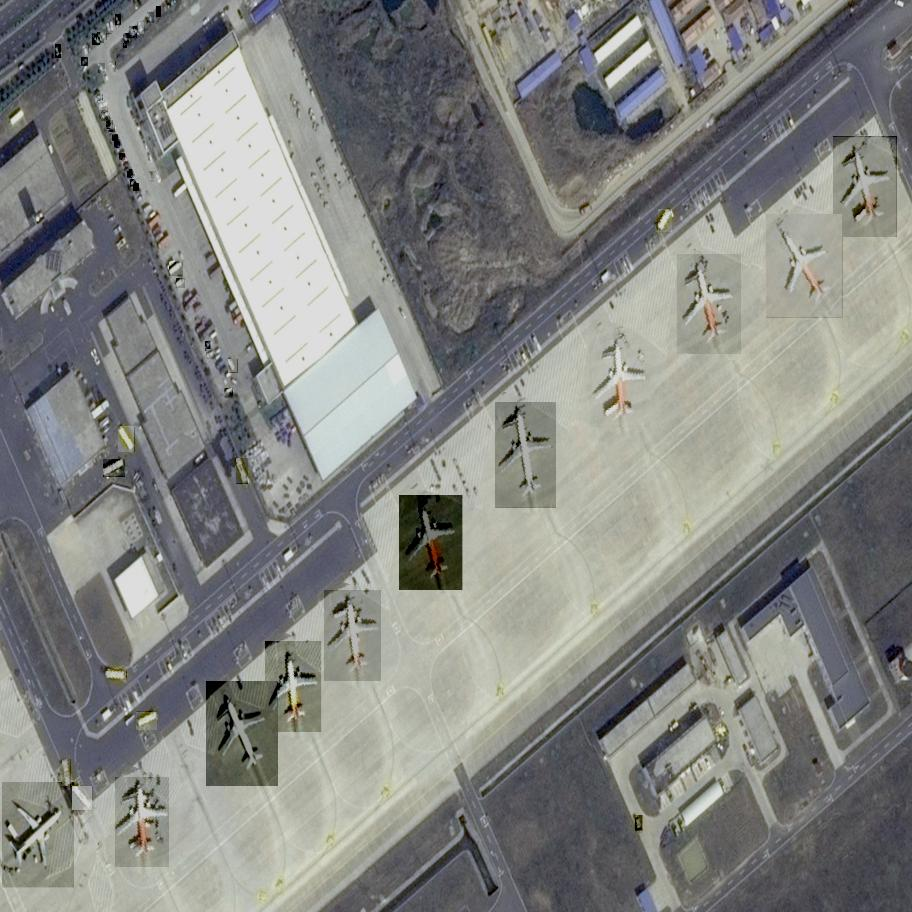large-vehicle: (72, 786, 94, 811), (134, 712, 161, 730), (102, 459, 127, 478), (118, 426, 136, 452), (658, 210, 674, 232), (236, 459, 250, 484), (63, 760, 72, 787), (169, 262, 185, 277), (105, 671, 126, 679), (227, 360, 239, 373), (635, 816, 642, 831)
plane: (757, 214, 854, 319), (199, 682, 286, 786), (0, 783, 85, 888), (829, 137, 905, 237), (673, 254, 746, 354), (396, 495, 469, 590), (493, 402, 558, 508), (588, 333, 650, 426), (322, 590, 384, 681), (263, 641, 323, 732), (114, 778, 171, 867)
small-vehicle: (91, 34, 101, 46), (176, 279, 188, 289), (98, 101, 109, 111), (129, 27, 138, 39), (101, 112, 112, 121), (224, 389, 235, 398), (205, 350, 216, 359), (146, 13, 155, 24), (123, 161, 132, 172), (98, 63, 107, 73), (96, 33, 105, 43), (115, 15, 123, 26), (82, 45, 89, 57), (81, 57, 90, 66), (100, 30, 108, 40), (94, 95, 104, 103), (138, 23, 145, 34), (106, 23, 113, 34), (109, 61, 117, 70), (130, 179, 138, 188), (123, 34, 130, 43), (108, 126, 117, 133), (149, 172, 156, 181), (133, 184, 140, 192), (107, 121, 114, 129), (110, 22, 116, 31), (56, 45, 60, 58), (156, 7, 161, 17), (112, 135, 119, 142), (206, 341, 210, 351), (123, 40, 127, 48), (128, 169, 132, 177), (115, 139, 119, 147), (120, 154, 124, 160)
